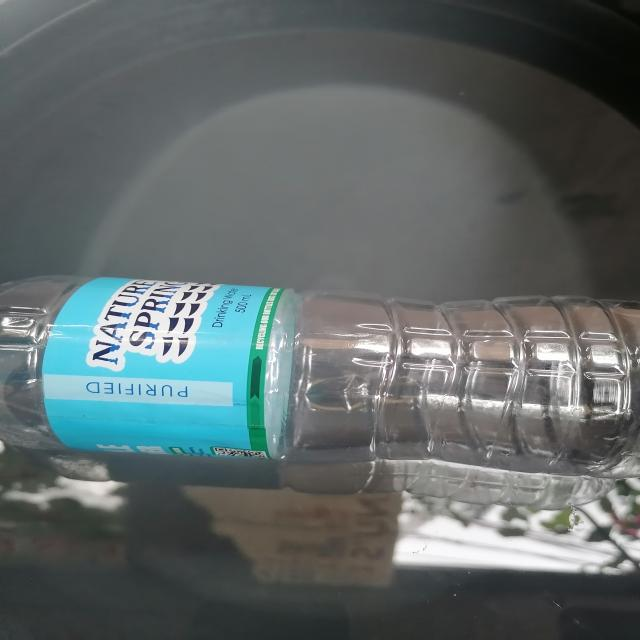Plastic Bottle: (0, 277, 640, 505)
